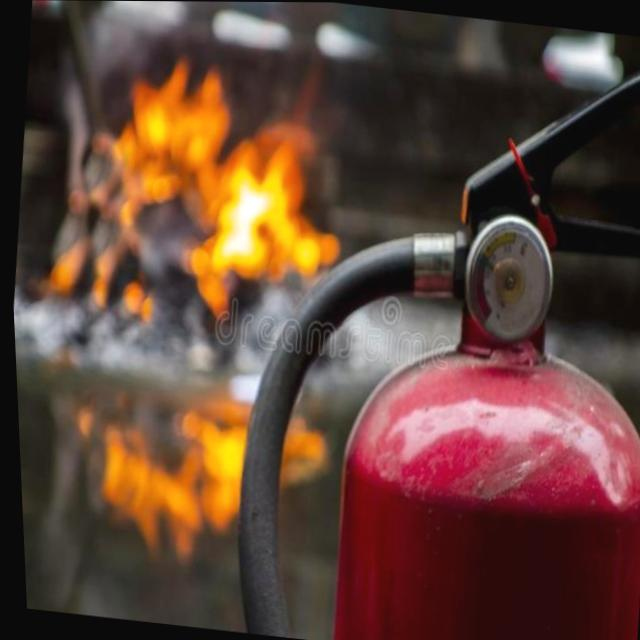FireExtinguisher: (198, 4, 640, 640)
